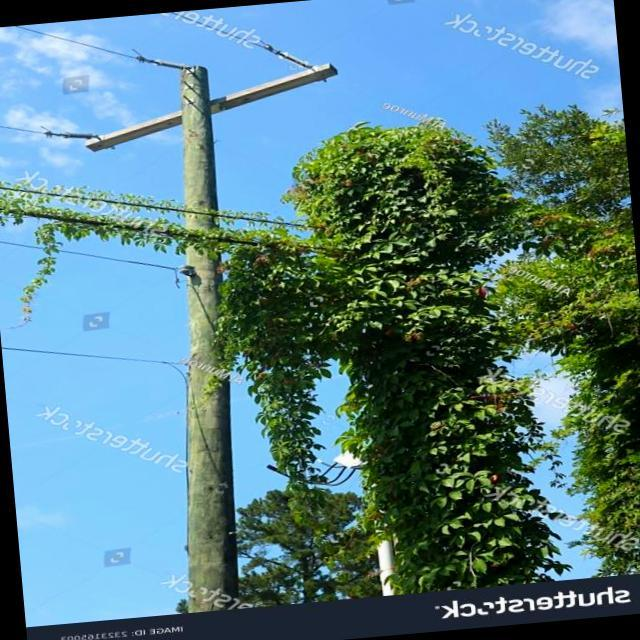light_pole: (0, 23, 548, 618)
